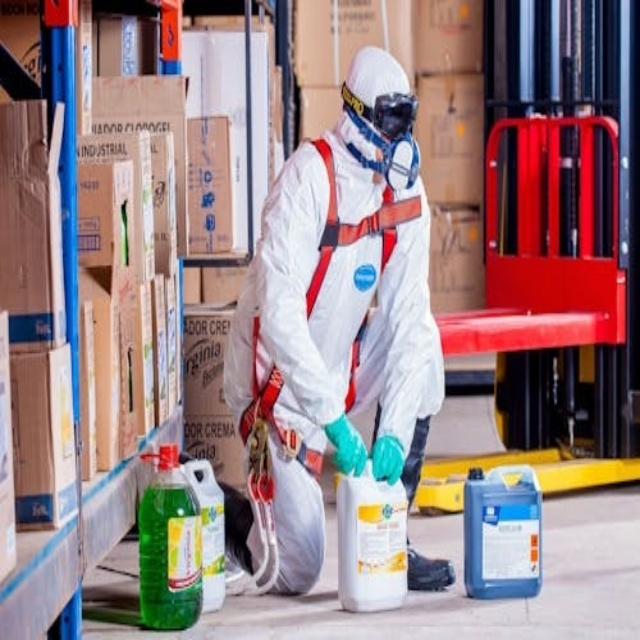Gafas: (358, 86, 426, 141)
Guantes: (325, 414, 368, 478), (372, 434, 406, 486)
Mascara: (351, 130, 429, 187)
